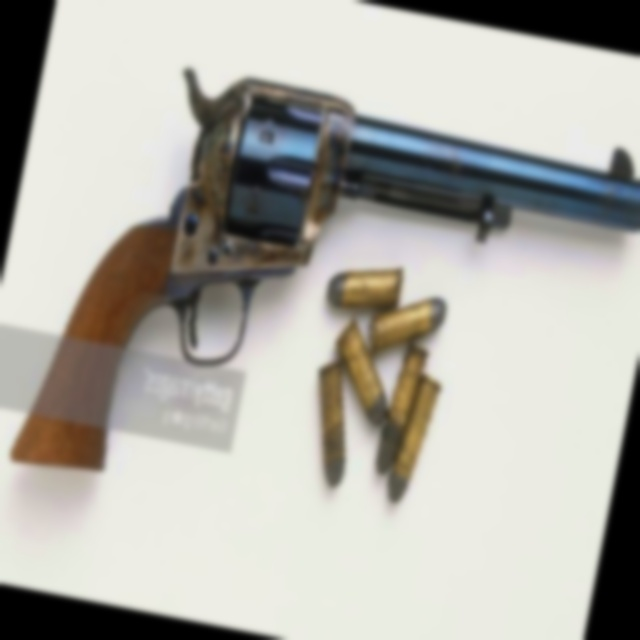gun: (3, 35, 640, 573)
